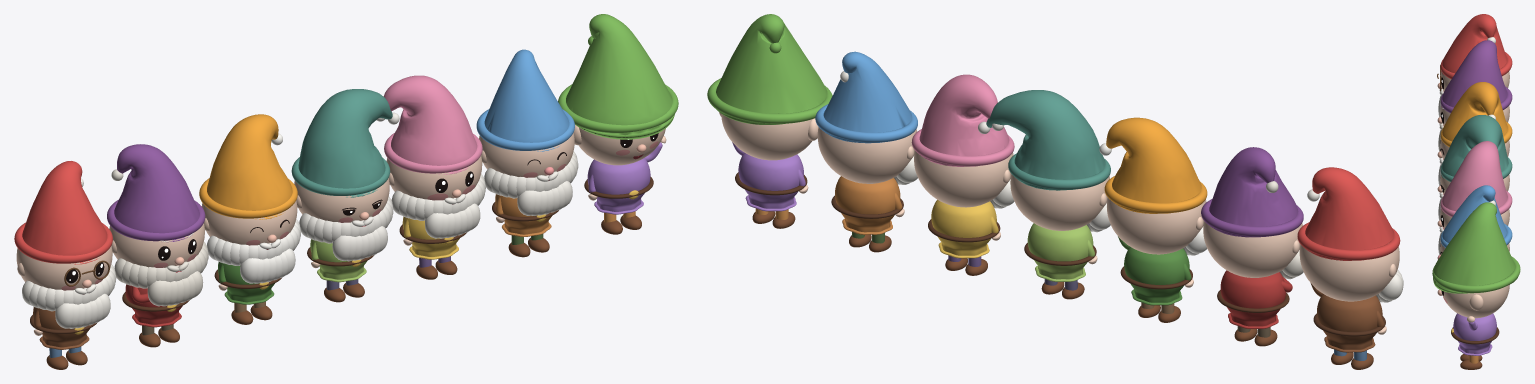
File: dwarfs.glb
3 views of the same model, side by side, from view 1: azimuth 30°, elevation 25°; view 2: azimuth 150°, elevation 25°; view 3: azimuth 270°, elevation 25° (orthographic). The views are drawn at different scales.
Visible parts, largest first — view 1: Dopey_Hat, Sleepy_Hat, Bashful_Hat, Happy_Hat, Grumpy_Hat, Doc_Hat, Sneezy_Hat, Sneezy_Beard, Doc_Beard, Grumpy_Beard, Sleepy_Beard, Bashful_Beard (+22 smaller); view 2: Dopey_Hat, Sleepy_Hat, Happy_Hat, Doc_Hat, Bashful_Hat, Grumpy_Hat, Sneezy_Hat, Doc_Head, Grumpy_Head, Sneezy_Head, Bashful_Head, Happy_Head (+16 smaller); view 3: Dopey_Hat, Bashful_Hat, Grumpy_Hat, Sleepy_Hat, Happy_Hat, Doc_Hat, Dopey_Head, Dopey_Tunic, Sneezy_Hat, Dopey_HatBrim, Bashful_HatBrim, Doc_HatBrim (+13 smaller).
Boxes of the visible parts, <box> form: Dopey_Hat: <box>566,14,674,139</box>; Sleepy_Hat: <box>298,89,392,197</box>; Bashful_Hat: <box>383,75,477,174</box>; Happy_Hat: <box>207,114,292,219</box>; Grumpy_Hat: <box>114,144,199,242</box>; Doc_Hat: <box>22,161,107,264</box>; Sneezy_Hat: <box>484,49,569,151</box>; Sneezy_Beard: <box>484,151,578,215</box>; Doc_Beard: <box>22,264,116,328</box>; Grumpy_Beard: <box>114,241,208,306</box>; Sleepy_Beard: <box>299,196,393,261</box>; Bashful_Beard: <box>391,174,485,238</box>; Dopey_Hat: <box>716,14,827,124</box>; Sleepy_Hat: <box>986,90,1105,190</box>; Happy_Hat: <box>1106,117,1201,213</box>; Doc_Hat: <box>1305,167,1394,260</box>; Bashful_Hat: <box>919,74,1009,166</box>; Grumpy_Hat: <box>1209,147,1298,237</box>; Sneezy_Hat: <box>823,51,911,143</box>; Doc_Head: <box>1299,245,1399,301</box>; Grumpy_Head: <box>1203,221,1302,277</box>; Sneezy_Head: <box>817,127,917,183</box>; Bashful_Head: <box>914,151,1013,207</box>; Happy_Head: <box>1107,198,1206,254</box>; Dopey_Hat: <box>1433,202,1519,293</box>; Bashful_Hat: <box>1441,141,1510,212</box>; Grumpy_Hat: <box>1441,40,1510,107</box>; Sleepy_Hat: <box>1441,115,1509,178</box>; Happy_Hat: <box>1441,82,1509,142</box>; Doc_Hat: <box>1441,14,1508,74</box>; Dopey_Head: <box>1442,284,1509,318</box>; Dopey_Tunic: <box>1453,313,1496,353</box>; Sneezy_Hat: <box>1441,185,1510,246</box>; Dopey_HatBrim: <box>1432,256,1520,293</box>; Bashful_HatBrim: <box>1440,190,1512,216</box>; Doc_HatBrim: <box>1440,52,1512,79</box>.
Size of the model in its own units: 8.83 by 2.66 by 1.35.
